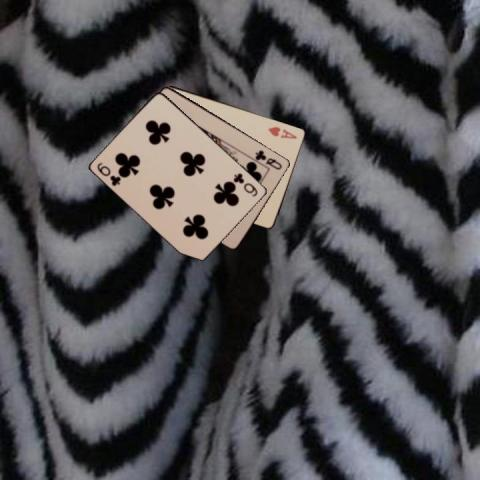6c: (94, 160, 123, 188), (231, 170, 259, 198)
Ah: (265, 123, 299, 140)
Qc: (253, 147, 283, 171)
